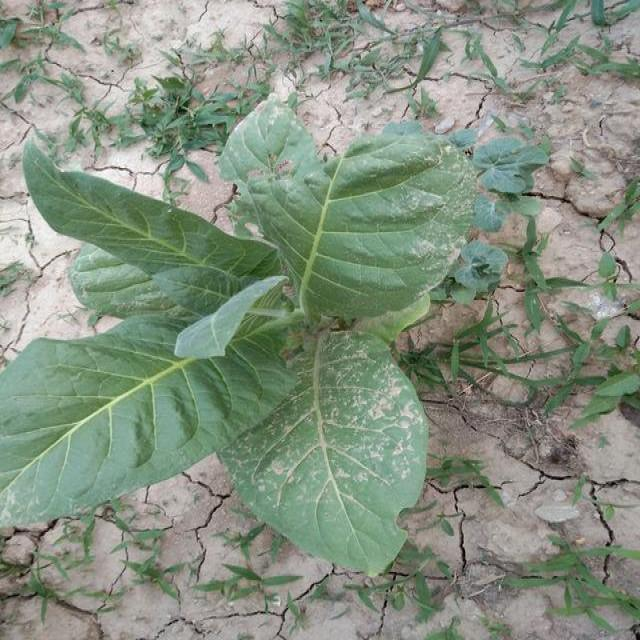crop: (0, 98, 485, 595)
